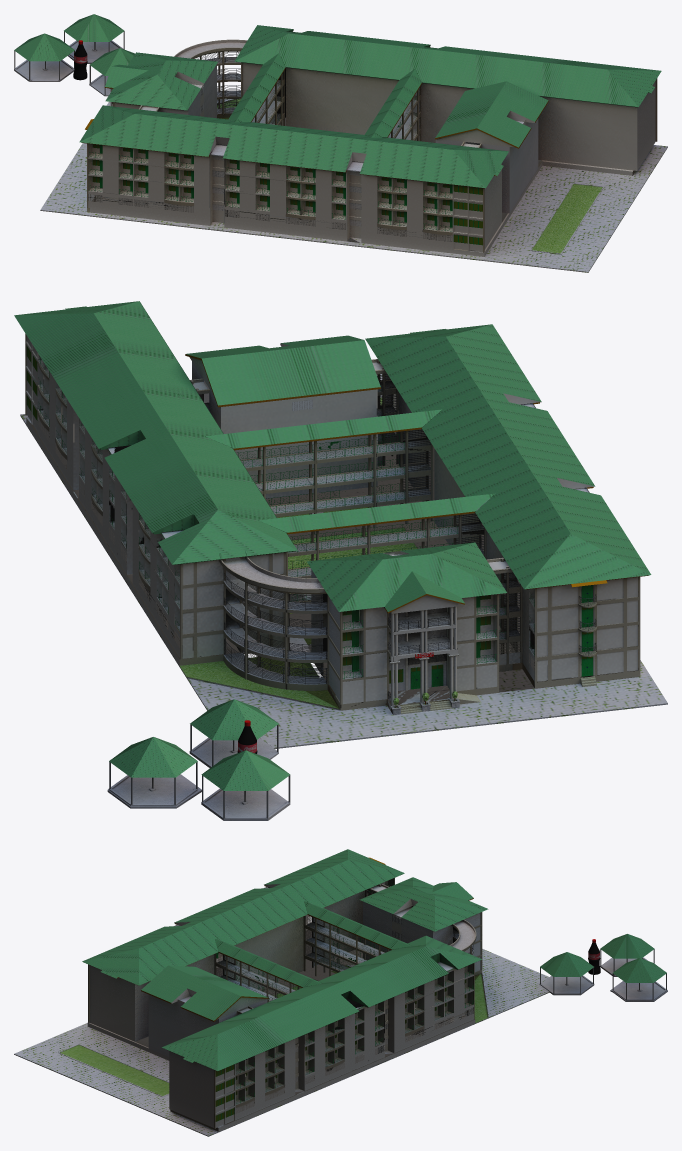
The model's file is kt_hall.gltf.
3 views of the same model, one above another, from view 1: azimuth 30°, elevation 25°; view 2: azimuth 150°, elevation 25°; view 3: azimuth 270°, elevation 25° (orthographic). The views are drawn at different scales.
Visible parts, largest first — view 1: ID42, ID3, ID51, ID6, ID9, ID48, ID78, ID21, ID27, ID15, ID72, ID24 (+4 smaller); view 2: ID42, ID3, ID6, ID48, ID51, ID36, ID78, ID72, ID27, ID15, ID9, ID24 (+3 smaller); view 3: ID42, ID3, ID51, ID9, ID48, ID6, ID78, ID15, ID72, ID27, ID21, ID36 (+2 smaller).
Boxes of the visible parts, <box> form: ID42: <box>79,25,661,188</box>; ID3: <box>88,62,655,256</box>; ID51: <box>40,98,667,272</box>; ID6: <box>87,39,657,252</box>; ID9: <box>159,64,538,220</box>; ID48: <box>96,57,541,252</box>; ID78: <box>14,14,134,75</box>; ID21: <box>93,68,482,244</box>; ID27: <box>88,69,482,245</box>; ID15: <box>217,98,602,253</box>; ID72: <box>14,40,123,96</box>; ID24: <box>100,145,452,227</box>; ID42: <box>14,301,651,611</box>; ID3: <box>25,336,637,710</box>; ID6: <box>25,333,640,710</box>; ID48: <box>26,382,592,705</box>; ID51: <box>20,374,667,748</box>; ID36: <box>224,374,596,702</box>; ID78: <box>109,699,290,790</box>; ID72: <box>107,737,290,820</box>; ID27: <box>27,346,593,683</box>; ID15: <box>180,397,457,708</box>; ID9: <box>192,361,493,711</box>; ID24: <box>352,585,593,689</box>; ID42: <box>82,849,488,1071</box>; ID3: <box>87,878,475,1131</box>; ID51: <box>14,949,549,1136</box>; ID9: <box>135,901,480,1056</box>; ID48: <box>89,922,474,1127</box>; ID6: <box>88,878,482,1128</box>; ID78: <box>540,934,666,982</box>; ID15: <box>60,965,487,1095</box>; ID72: <box>539,957,667,1001</box>; ID27: <box>216,883,473,1121</box>; ID21: <box>215,894,466,1121</box>; ID36: <box>216,885,473,978</box>.
Bounding box in the file's own units: 2701 × 422 × 3193.
Materials: 31 (31 with a texture image).
